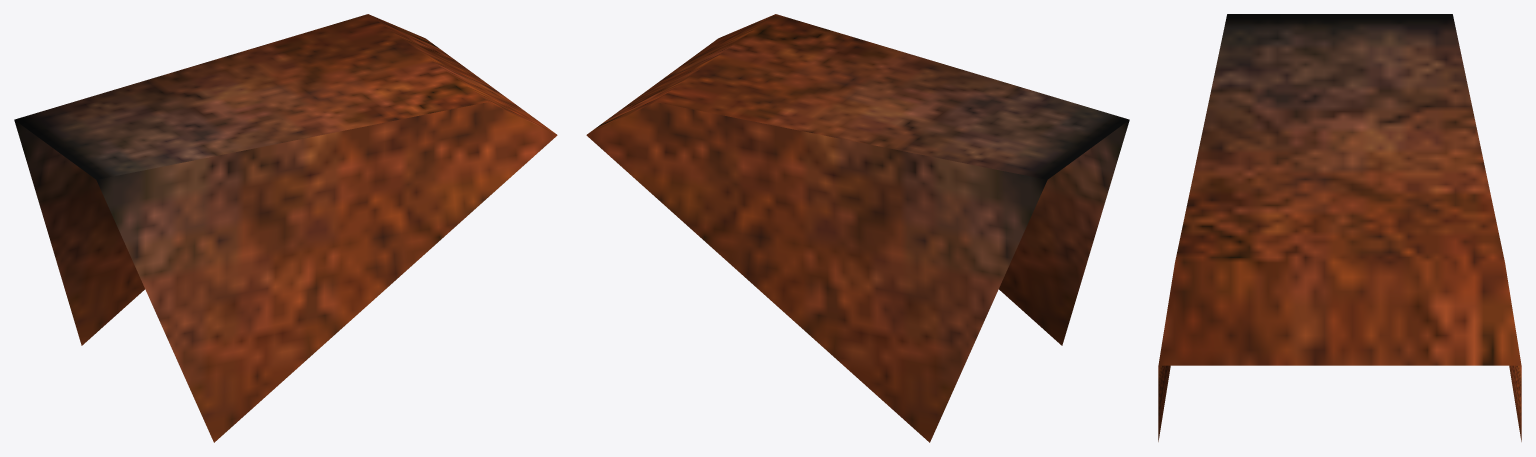
File: stbuho66.dae
3 views of the same model, side by side, from view 1: azimuth 30°, elevation 25°; view 2: azimuth 150°, elevation 25°; view 3: azimuth 270°, elevation 25° (orthographic). The views are drawn at different scales.
Parts seen in each view (by area): view 1: base; view 2: base; view 3: base.
Boxes of the visible parts, bbox=[...] form: base: bbox=[14, 14, 557, 442]; base: bbox=[586, 14, 1129, 442]; base: bbox=[1158, 14, 1521, 441].
Size of the model in its own units: 4.57 by 2.4 by 2.68.
1 material, 1 textured.
